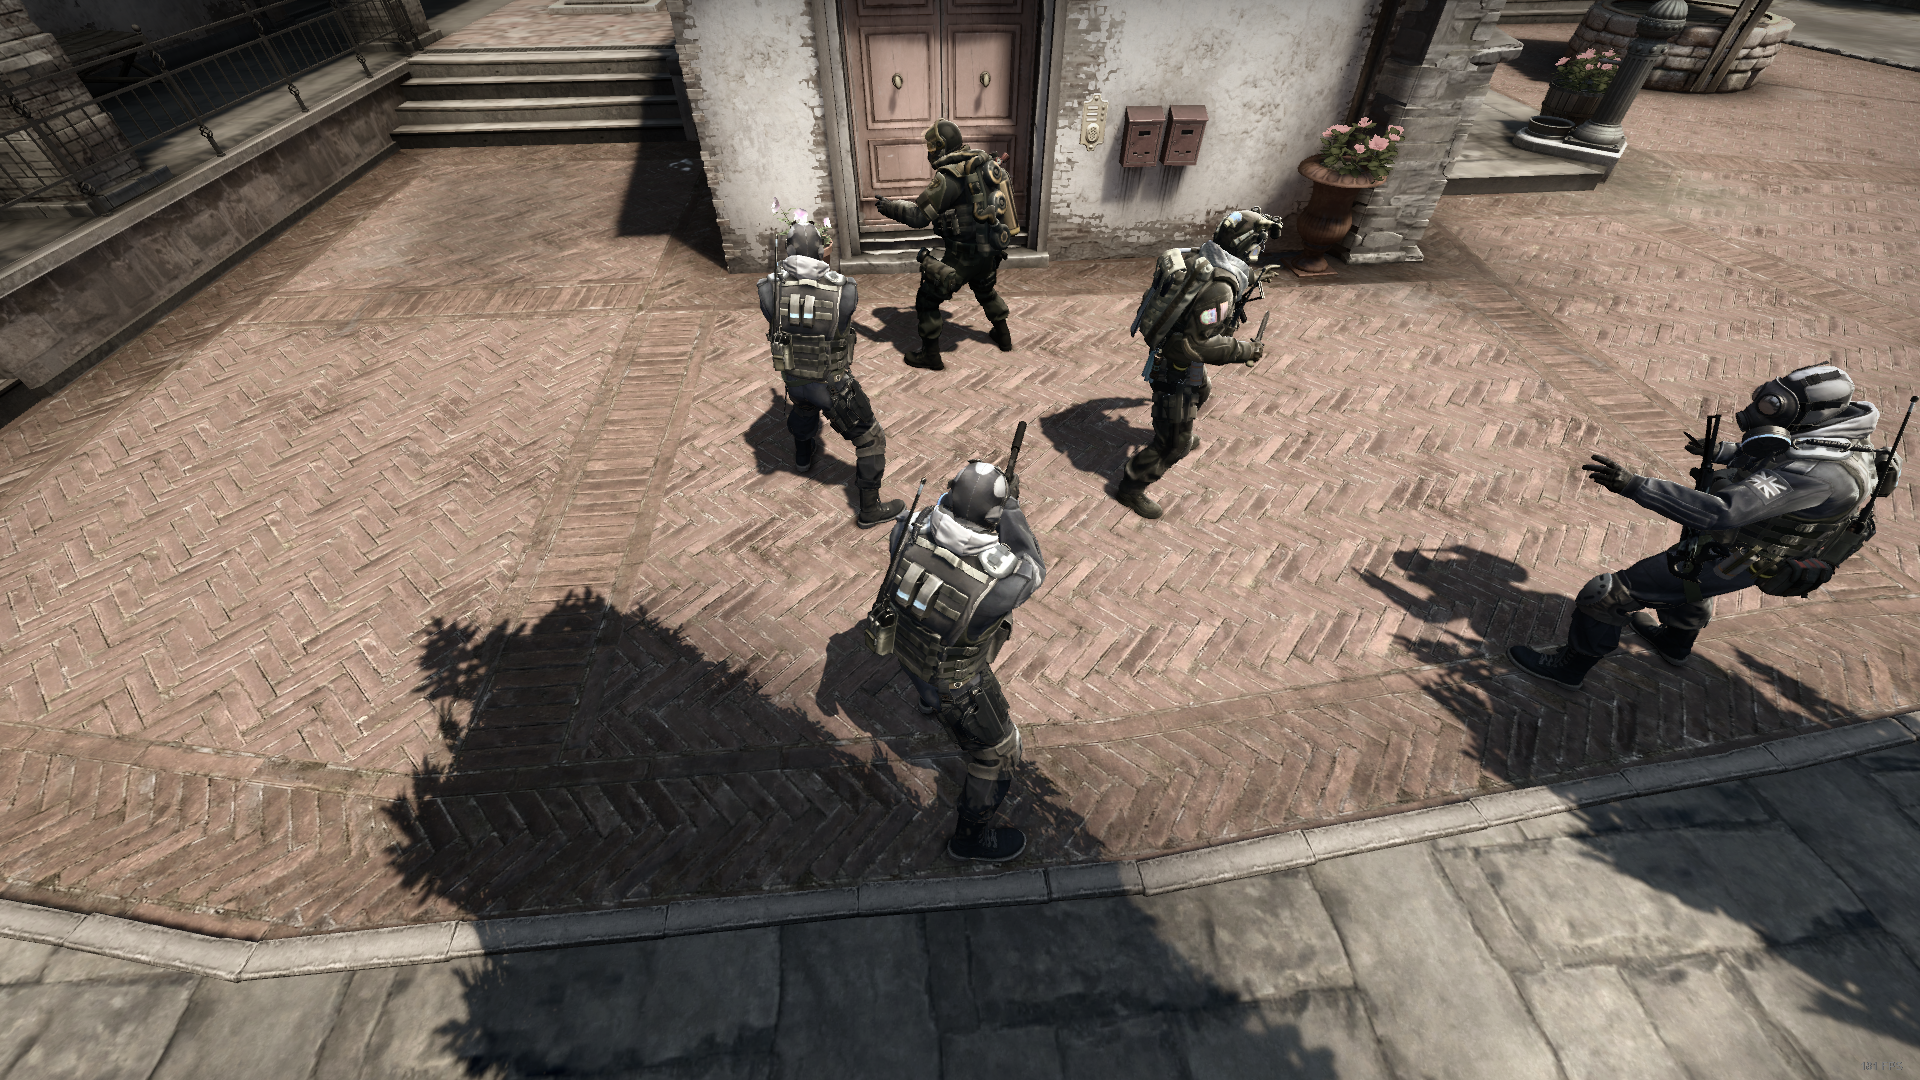ct: (1506, 360, 1917, 767), (858, 447, 1058, 865), (757, 222, 907, 524)
